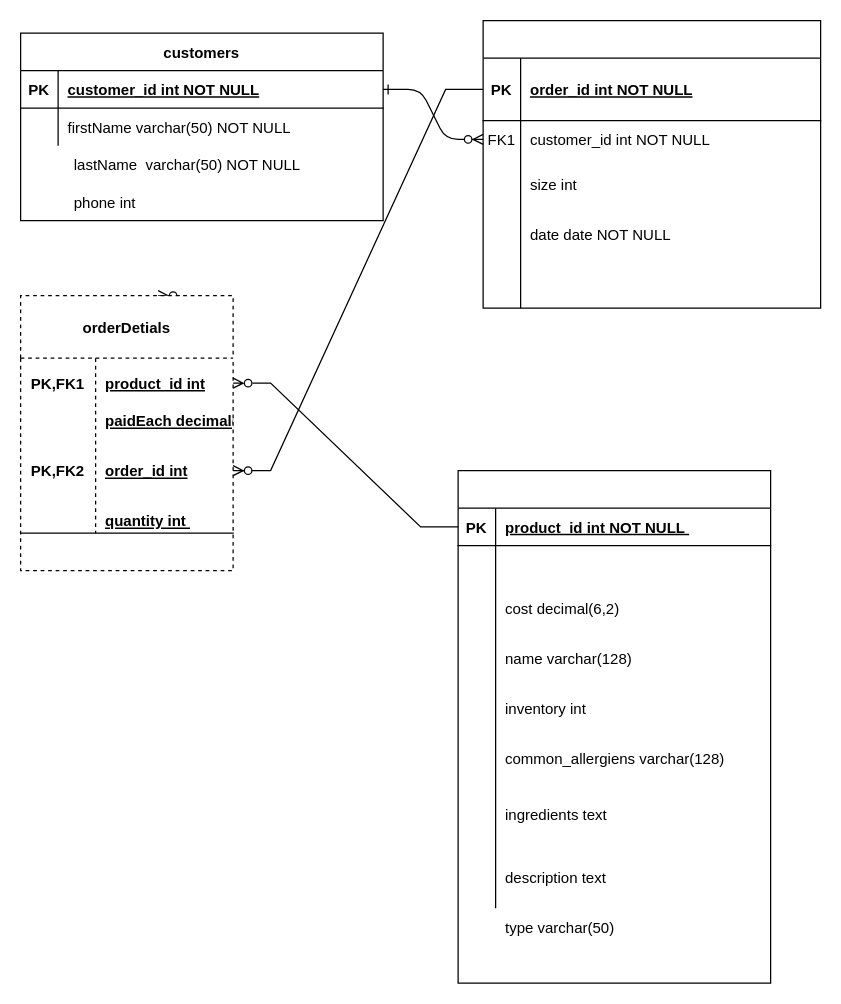
The diagram is 841 pixels wide and 1004 high, and some of its shapes have lost their labels. Each missing label, with the box of its shape:
orders: (482, 19, 821, 308)
products: (457, 469, 771, 983)
